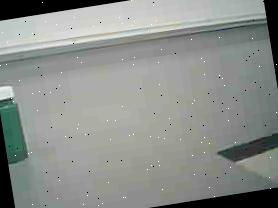Bottle C: (0, 72, 47, 177)
